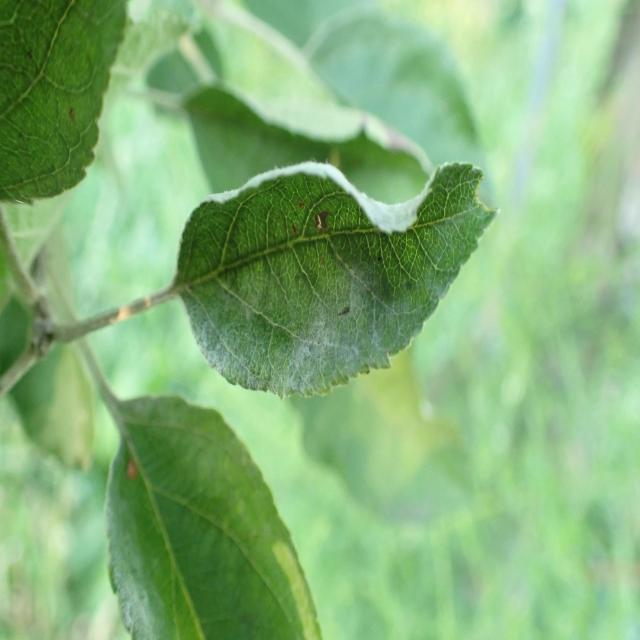Black Rot: (111, 448, 145, 485)
Powdery_mildew: (169, 148, 492, 406)
